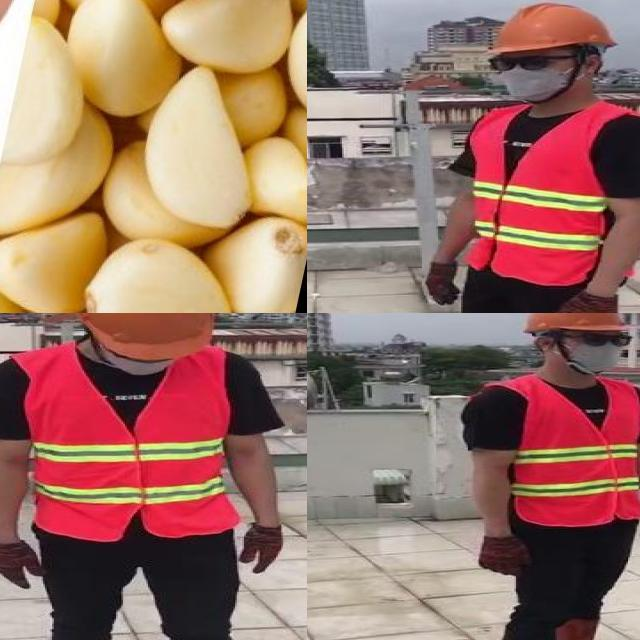boots: (555, 619, 621, 640)
face_mask: (485, 50, 579, 101), (563, 328, 634, 373)
glasses: (481, 50, 557, 76), (576, 328, 634, 349)
hand_glove: (239, 522, 285, 575), (475, 537, 536, 576), (0, 542, 45, 589), (551, 291, 619, 313), (426, 263, 460, 306)
head_helmet: (481, 0, 618, 53), (68, 313, 222, 360), (522, 313, 628, 337)
person: (0, 313, 307, 640), (417, 1, 640, 313), (457, 313, 640, 640)
vest: (15, 346, 237, 540), (464, 104, 640, 283), (508, 374, 640, 525)
